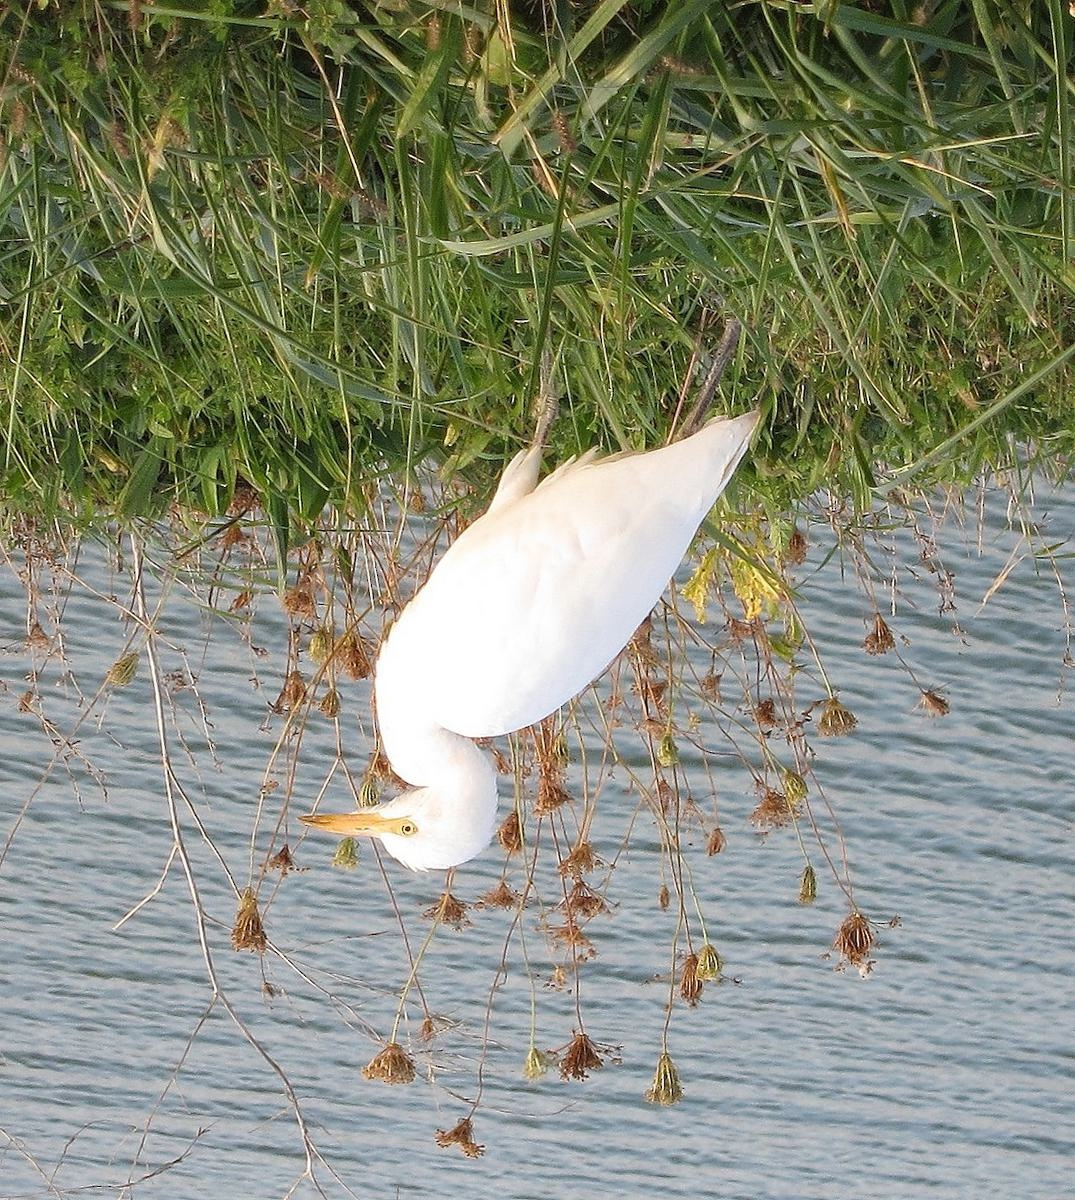egret: (326, 299, 764, 892)
